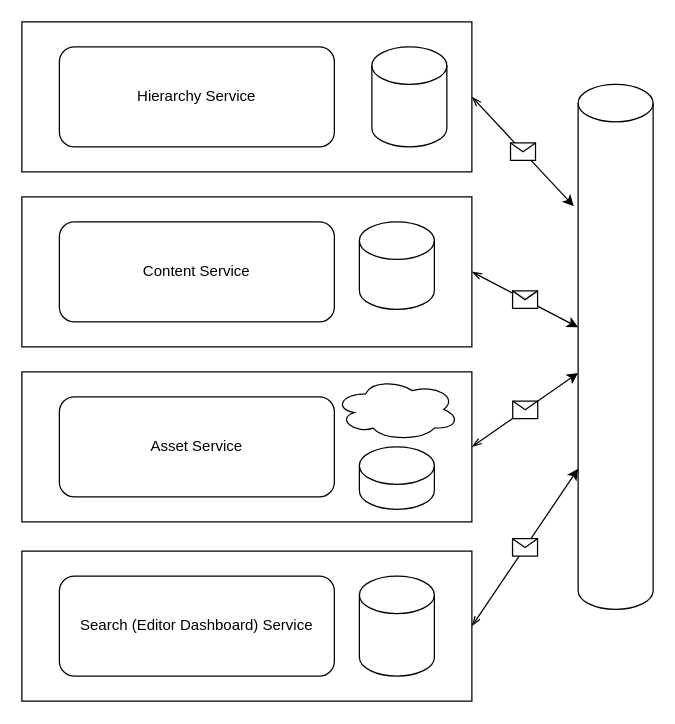
The diagram is 675 pixels wide and 724 high, and some of its shapes have lost their labels. The shapes that lost their labels are listed below. From the top down, each one's centre as x and y in pixels, then its label:
pixel 615 346: Event Bus (Publish/subscribe channel)
pixel 396 409: Object Storage
